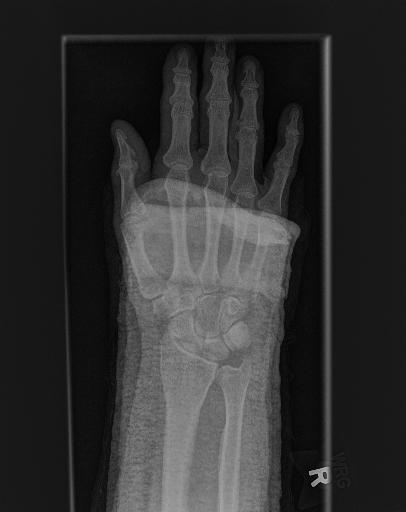wrist positive: (153, 326, 223, 367)
